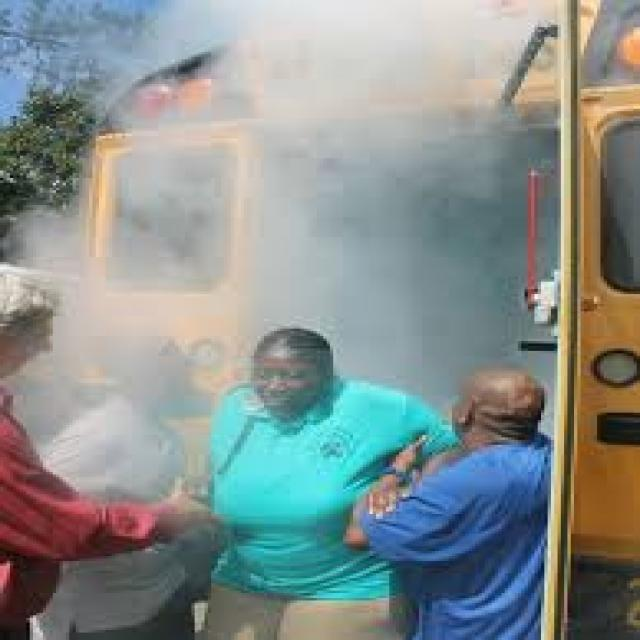Smoke: (0, 0, 561, 457)
